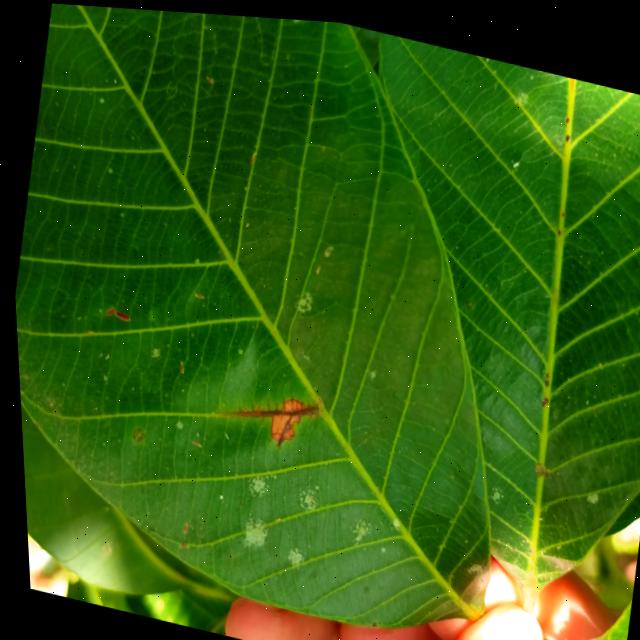Corynespora: (217, 376, 318, 452)
